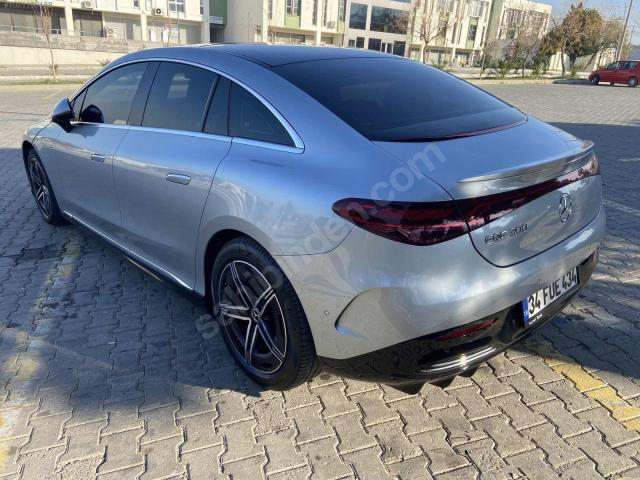plaka: (523, 267, 578, 322)
